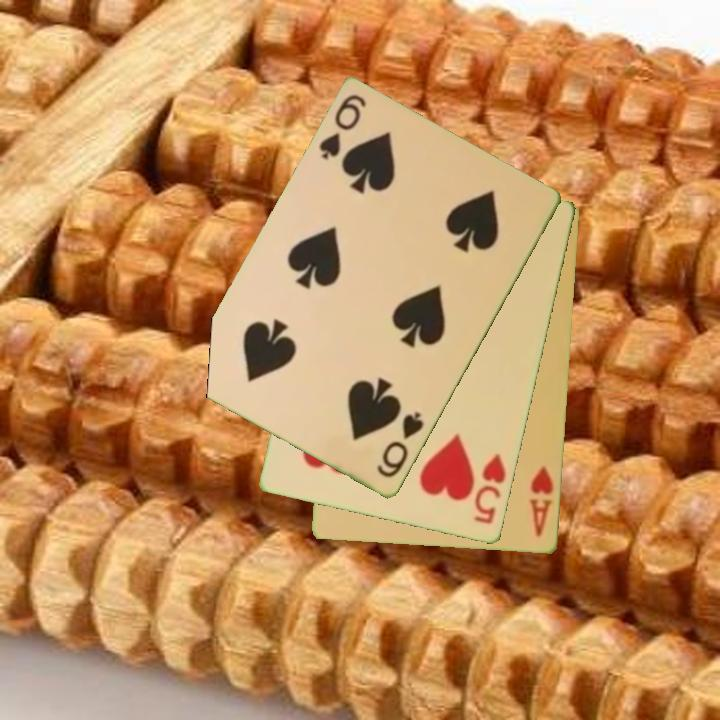5h: (471, 451, 509, 528)
6s: (373, 408, 427, 482), (315, 91, 370, 163)
Ah: (526, 462, 557, 540)
